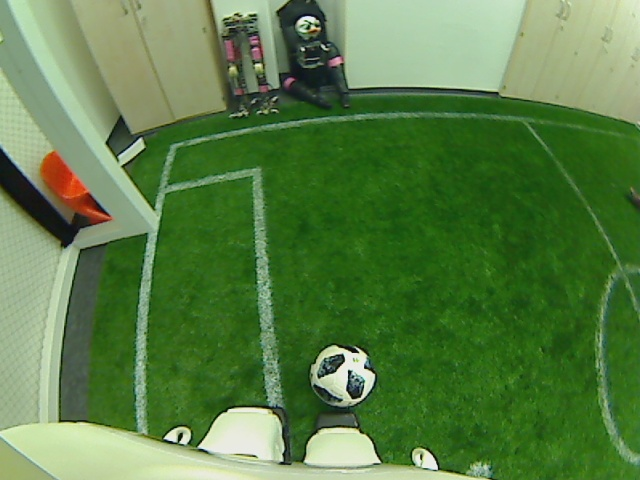ball: (307, 341, 376, 410)
